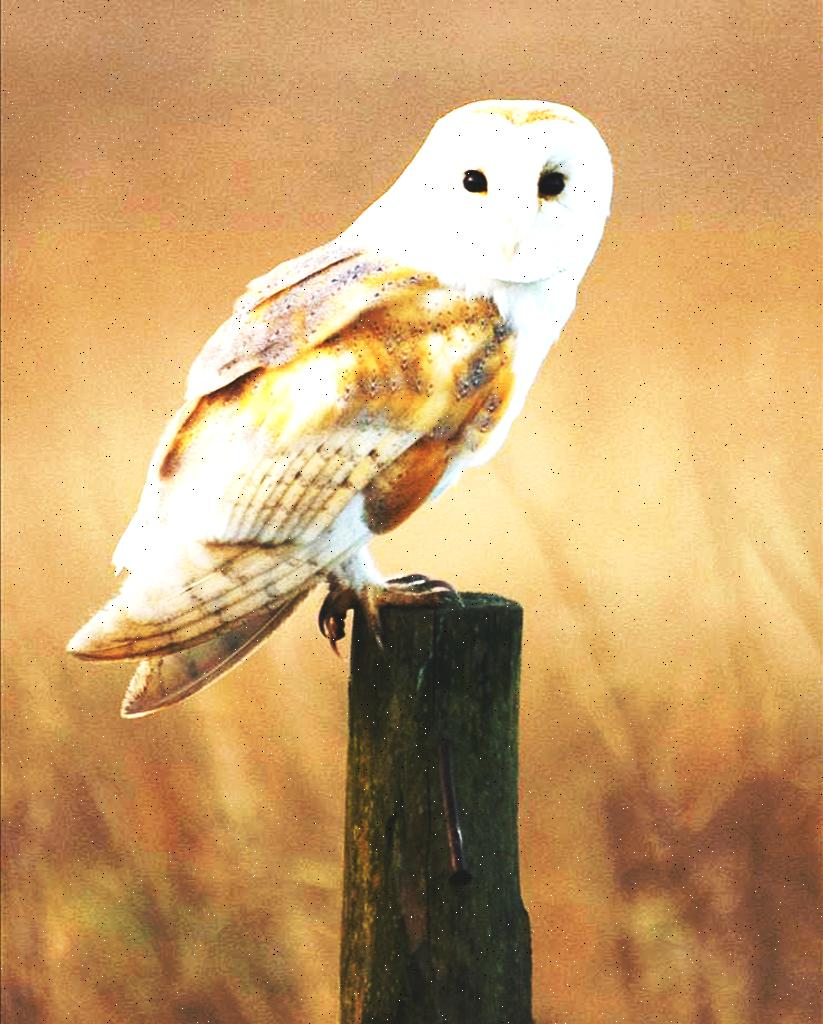Owl: (50, 81, 621, 720)
